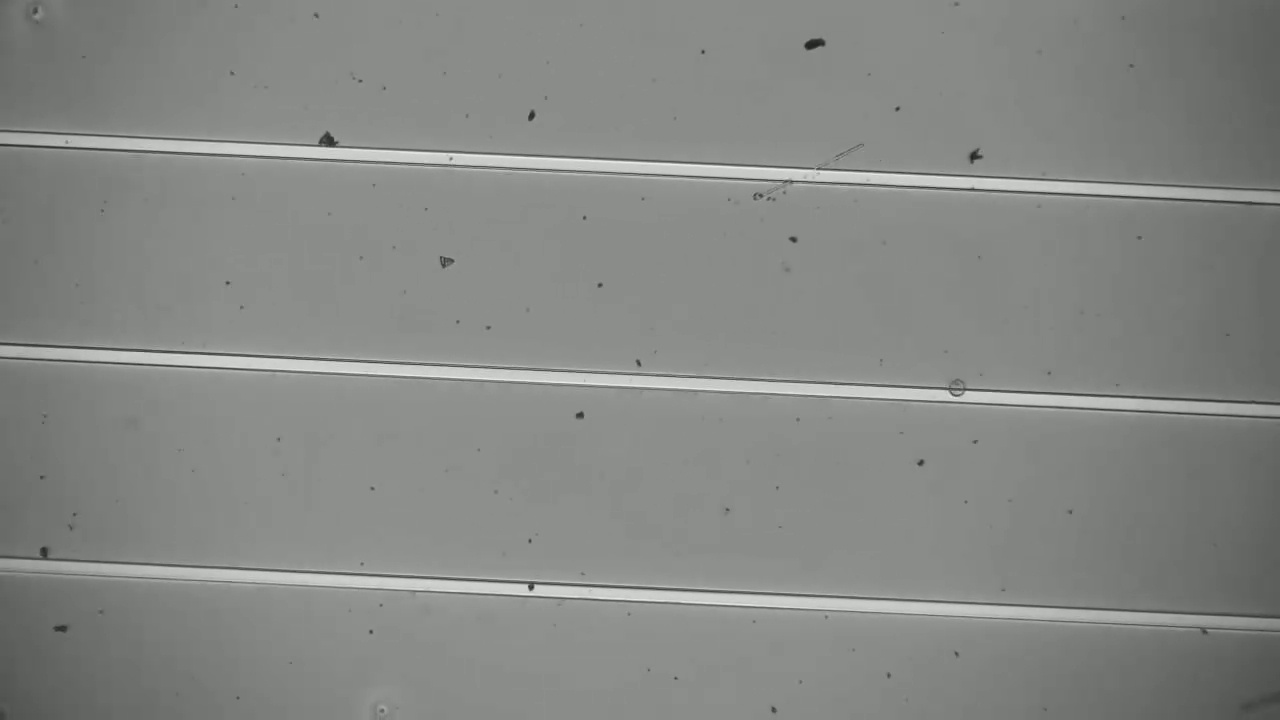stains_enbedded: (942, 376, 973, 408)
